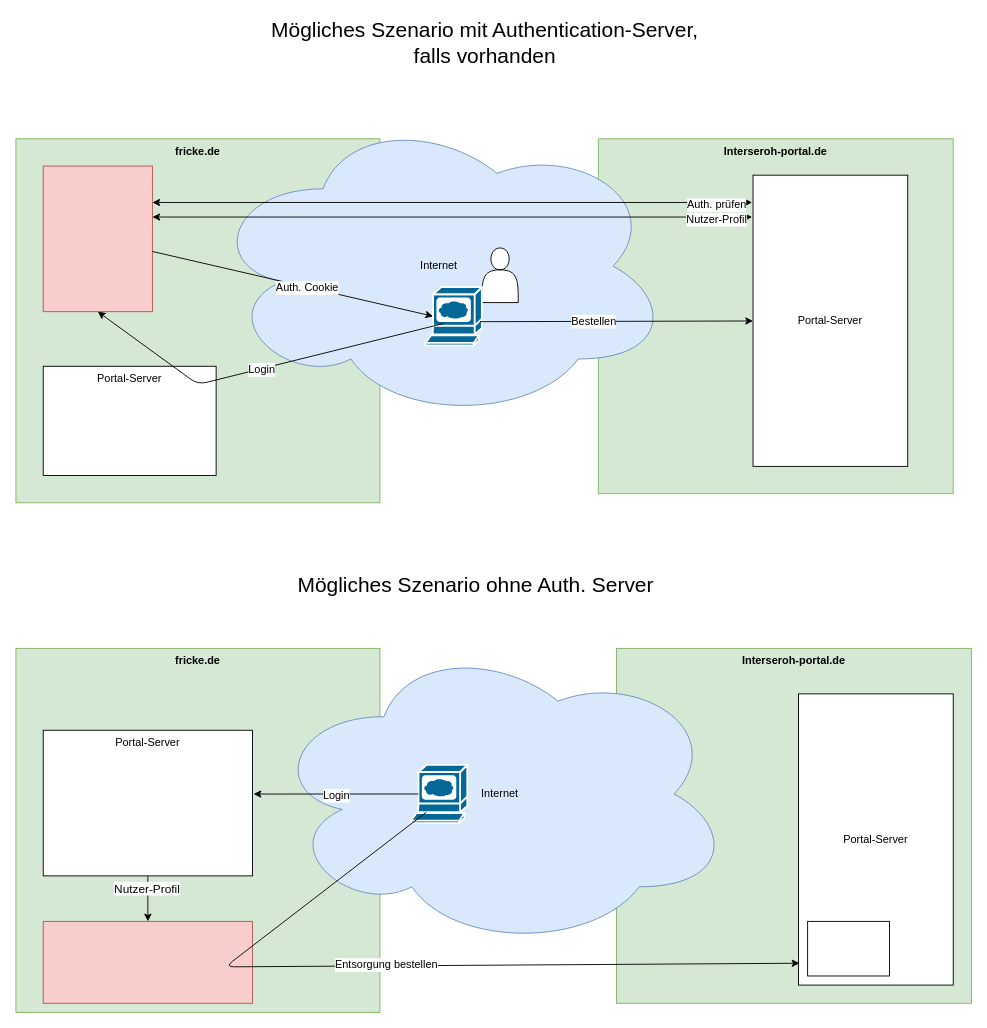
This 987x1028 diagram has some shape labels left out. Here are the shapes that lost their labels. From the top down, the box of each, then its label:
(42, 165, 152, 312): Auth-Server?
(481, 247, 518, 303): Fricke-User
(42, 920, 253, 1003): Interseroh-Proxy +Nutzer-Profil +Sgnatur
(807, 920, 890, 976): Auth = valide Signatur
